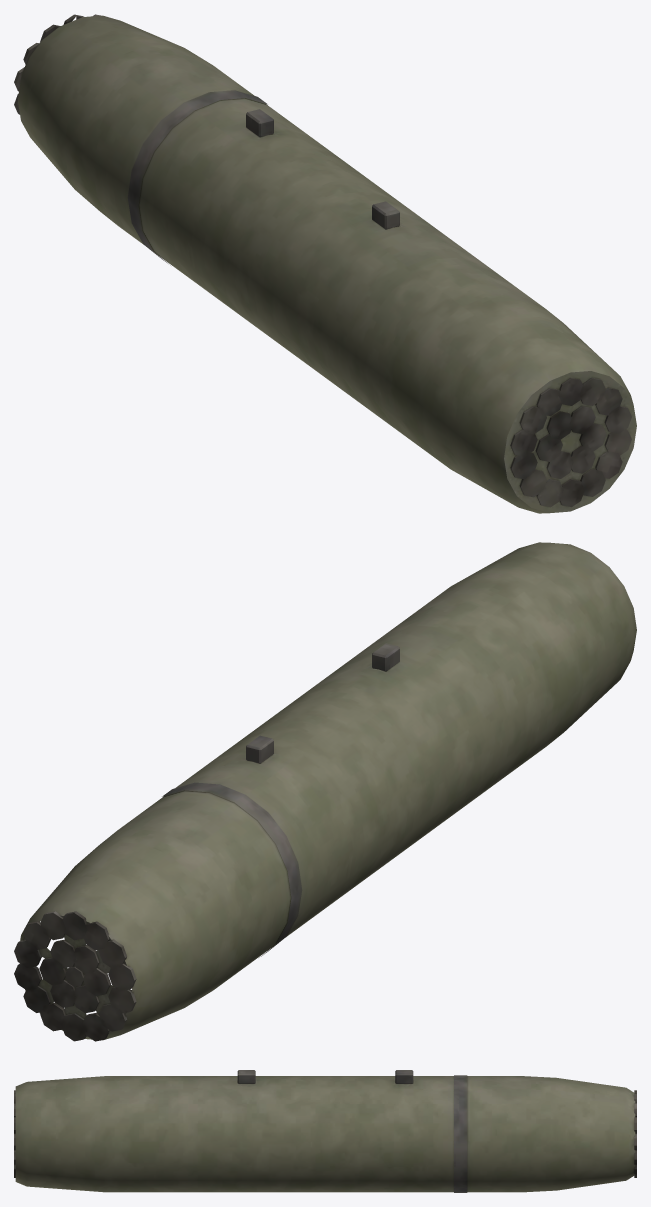
File: rocket_pod.glb
3 renders of one model, top to bottom at view 1: azimuth 30°, elevation 25°; view 2: azimuth 150°, elevation 25°; view 3: azimuth 270°, elevation 25°, orthographic. The views are drawn at different scales.
Visible parts, largest first — view 1: body; view 2: body; view 3: body.
Part boxes in pixels (<box>): body: <box>14,14,636,513</box>; body: <box>14,542,636,1041</box>; body: <box>14,1070,636,1192</box>.
Bounding box in the file's own units: 0.525 × 0.5675 × 2.76.
Materials: 1 (1 with a texture image).
